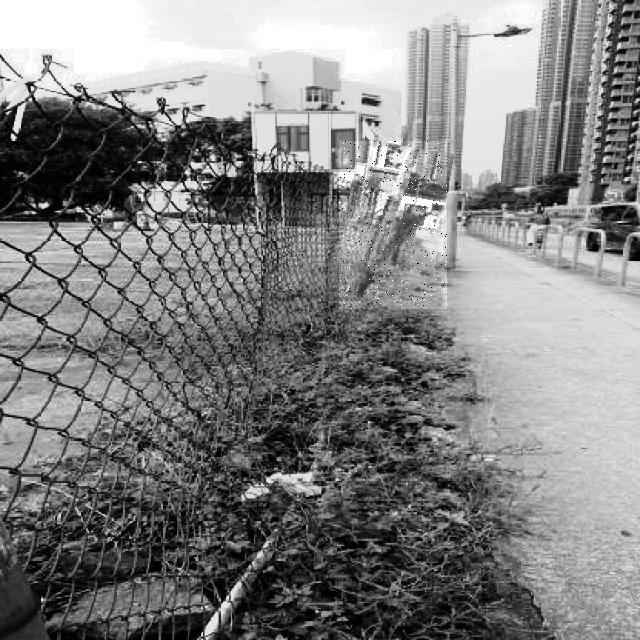anomaly-fence: (339, 141, 447, 309)
